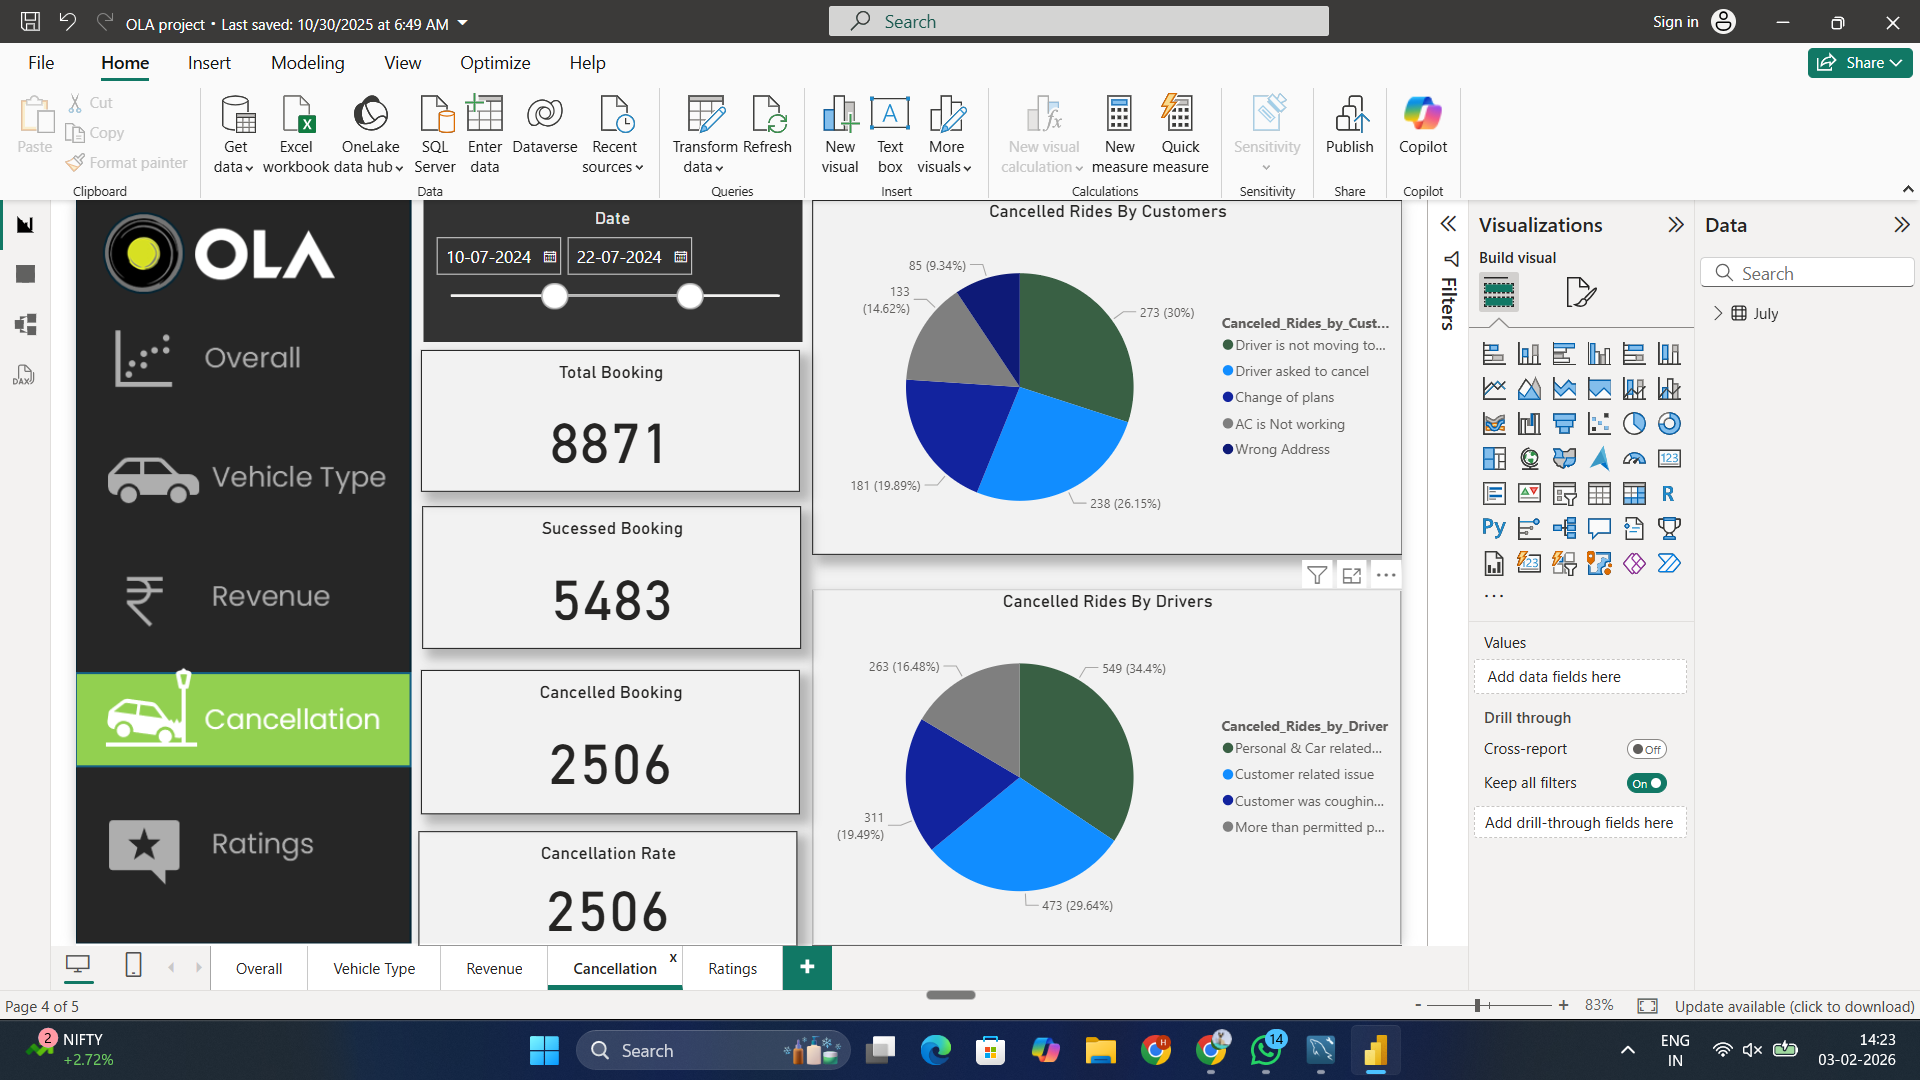

What the dashboard file says about the page in this screenshot:
{"tool":"powerbi","page":{"name":"Cancellation","canvas":[1280,720],"ordinal":3},"visuals":[{"type":"actionButton","box":[0,574.3,323.6,92.1],"z":0},{"type":"actionButton","box":[0,452.9,324.3,92.9],"z":1000},{"type":"actionButton","box":[0,340,324.3,92.9],"z":2000},{"type":"actionButton","box":[0,227.1,324.3,92.9],"z":3000},{"type":"actionButton","box":[0,108.6,324.3,92.9],"z":4000},{"type":"pieChart","title":"Cancelled Rides By Customers","fields":{"Category":["July.Canceled_Rides_by_Customer"],"Series":["July.Canceled_Rides_by_Driver"],"Y":["CountNonNull(July.Canceled_Rides_by_Customer)"]},"box":[710.6,0,569.4,342.6],"z":5000},{"type":"pieChart","title":"Cancelled Rides  By Drivers","fields":{"Category":["July.Canceled_Rides_by_Driver"],"Y":["CountNonNull(July.Canceled_Rides_by_Customer)"]},"box":[711.1,376.2,569.2,343.2],"z":6000},{"type":"slicer","title":"Date","fields":{"Values":["July.Date"]},"box":[334.9,0,365.2,136.4],"z":7000},{"type":"card","title":"Total Booking ","fields":{"Values":["CountNonNull(July.Booking_ID)"]},"box":[333.3,144.4,365.6,136.7],"z":8000},{"type":"card","title":"Sucessed Booking ","fields":{"Values":["CountNonNull(July.Booking_ID)"]},"box":[334.4,295.6,365.6,137.8],"z":9000},{"type":"card","title":"Cancelled Booking ","fields":{"Values":["CountNonNull(July.Booking_ID)"]},"box":[333.3,453.3,365.6,138.9],"z":10000},{"type":"card","title":"Cancellation Rate ","fields":{"Values":["CountNonNull(July.Booking_ID)"]},"box":[331.1,608.9,365.6,111.1],"z":11000}]}

Visuals, with their boxes on the page's 1280x720 design canvas (x1, y1, x2, y2). These are canvas units, not pixel positions in the 1920x1080 screenshot, which may show the page scaled, cropped or inside an application window:
actionButton: [x1=0, y1=574, x2=324, y2=666]
actionButton: [x1=0, y1=453, x2=324, y2=546]
actionButton: [x1=0, y1=340, x2=324, y2=433]
actionButton: [x1=0, y1=227, x2=324, y2=320]
actionButton: [x1=0, y1=109, x2=324, y2=202]
"Cancelled Rides By Customers" pieChart: [x1=711, y1=0, x2=1280, y2=343]
"Cancelled Rides  By Drivers" pieChart: [x1=711, y1=376, x2=1280, y2=719]
"Date" slicer: [x1=335, y1=0, x2=700, y2=136]
"Total Booking " card: [x1=333, y1=144, x2=699, y2=281]
"Sucessed Booking " card: [x1=334, y1=296, x2=700, y2=433]
"Cancelled Booking " card: [x1=333, y1=453, x2=699, y2=592]
"Cancellation Rate " card: [x1=331, y1=609, x2=697, y2=720]
